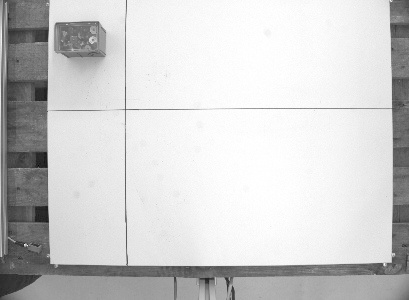kltxs: (51, 18, 109, 58)
